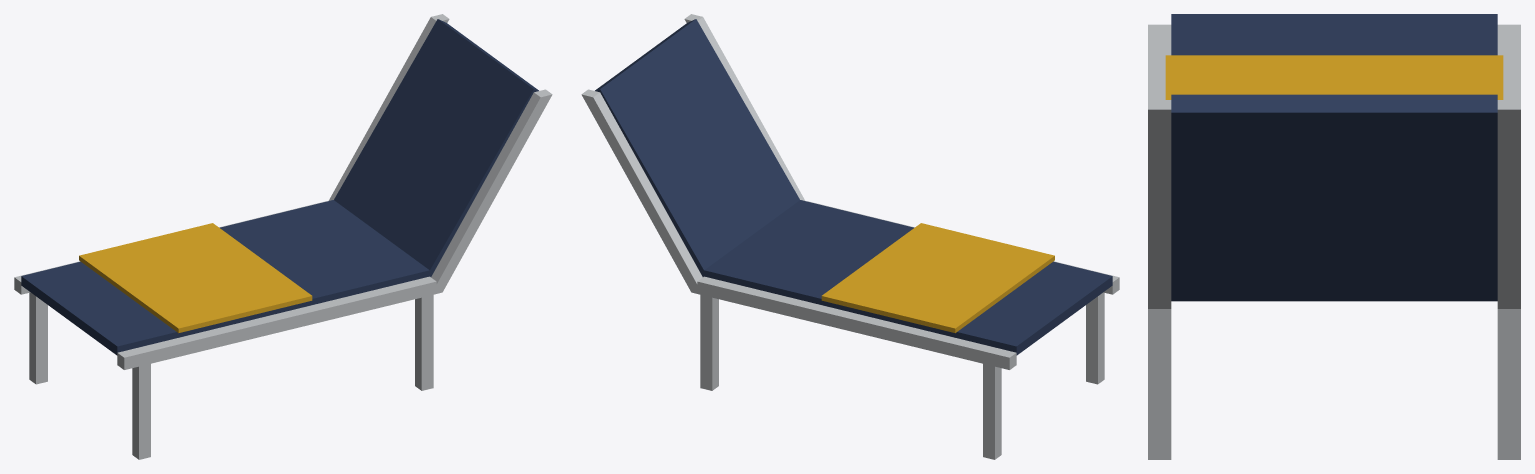
File: sun_lounger.glb
The picture shows the model from 3 angles, left to right: view 1: azimuth 30°, elevation 25°; view 2: azimuth 150°, elevation 25°; view 3: azimuth 270°, elevation 25°; orthographic projection. The views are drawn at different scales.
Parts seen in each view (by area): view 1: sun_lounger; view 2: sun_lounger; view 3: sun_lounger.
Boxes of the visible parts, x1,y1,x2,y2 form: sun_lounger: [14, 14, 552, 459]; sun_lounger: [581, 14, 1119, 459]; sun_lounger: [1148, 14, 1520, 459].
Size of the model in its own units: 1.44 by 0.86 by 0.64.
Materials: 1 (1 with a texture image).
